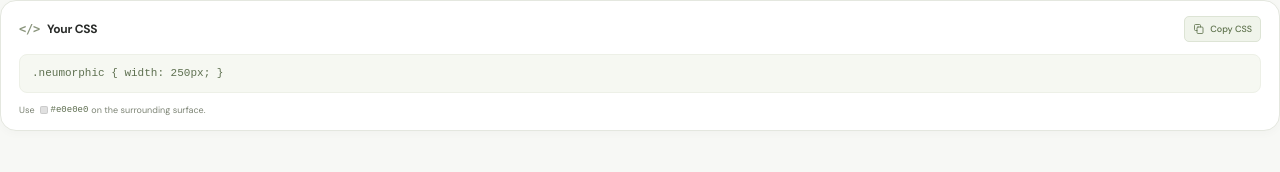
Scenario: CodeOutput › announces clipboard rejection without hiding the CSS
This screenshot has width=1280, height=172.
Click the button "Copy CSS" at (1223, 29), box [1184, 16, 1261, 42]
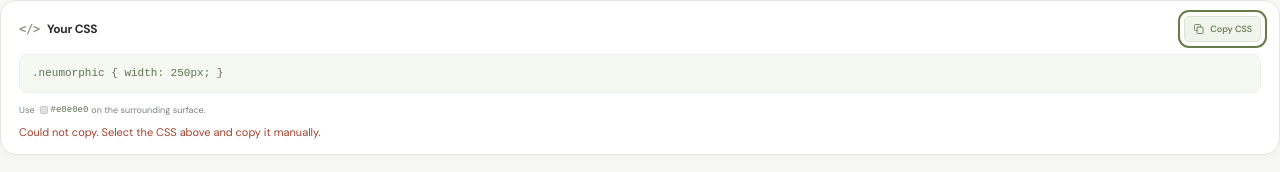
Expected: the element named "Generated CSS" reads ".neumorphic { width: 250px; }", [32, 67, 223, 79]
Now the message shows "Select the CSS above and copy it manually.", box [19, 125, 321, 139]
